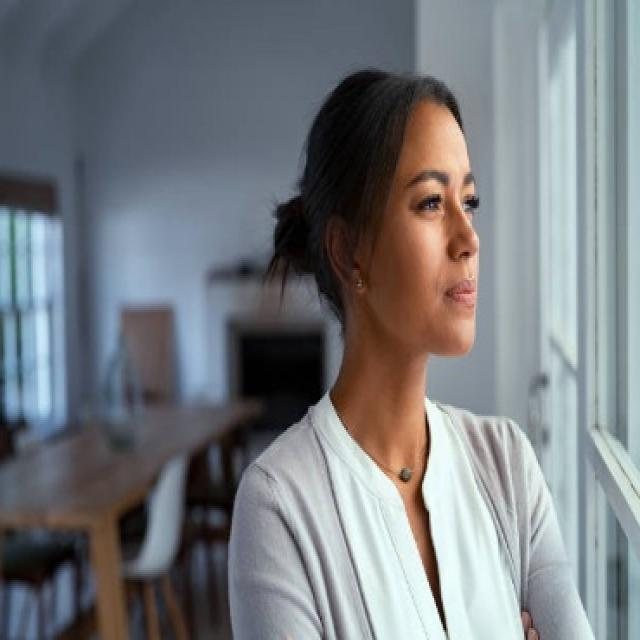adult: (233, 60, 609, 640)
